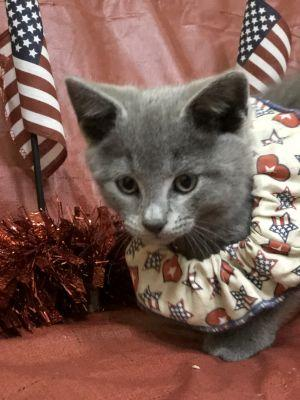rblue: (52, 56, 267, 268)
